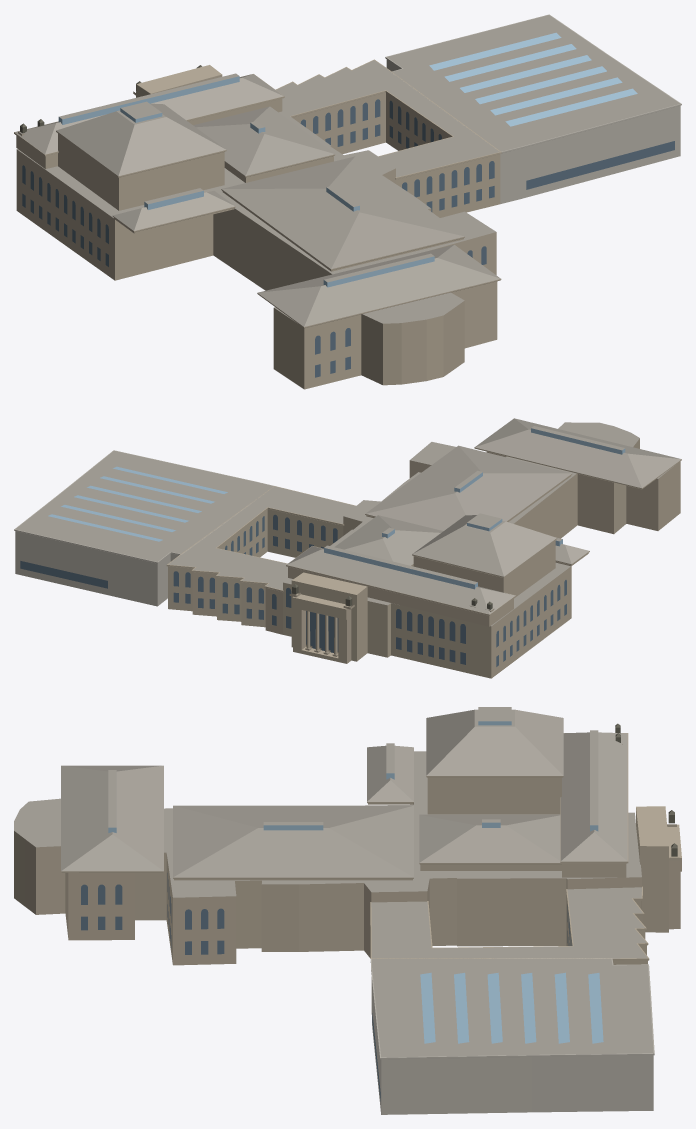
File: pit-carnegie-institute.glb
3 renders of one model, top to bottom at view 1: azimuth 30°, elevation 25°; view 2: azimuth 150°, elevation 25°; view 3: azimuth 270°, elevation 25°, orthographic. The views are drawn at different scales.
Visible parts, largest first — view 1: Carnegie Institute (Museums of Art and Natural History); view 2: Carnegie Institute (Museums of Art and Natural History); view 3: Carnegie Institute (Museums of Art and Natural History).
Part boxes in pixels (bbox=[...]): Carnegie Institute (Museums of Art and Natural History): bbox=[14, 14, 681, 389]; Carnegie Institute (Museums of Art and Natural History): bbox=[14, 418, 681, 678]; Carnegie Institute (Museums of Art and Natural History): bbox=[14, 707, 681, 1114].
Bounding box in the file's own units: 189 × 41.2 × 179.
